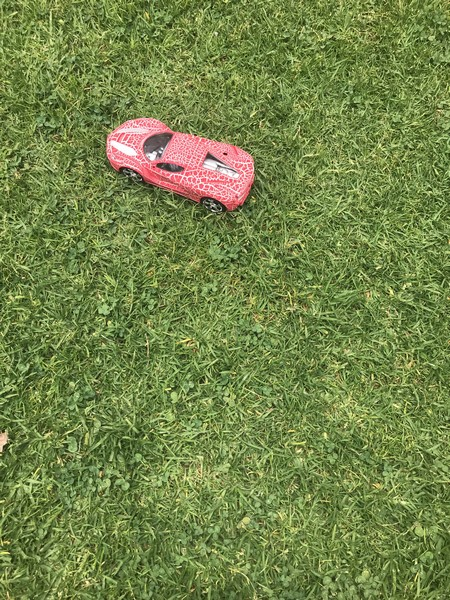RC: (105, 113, 259, 215)
